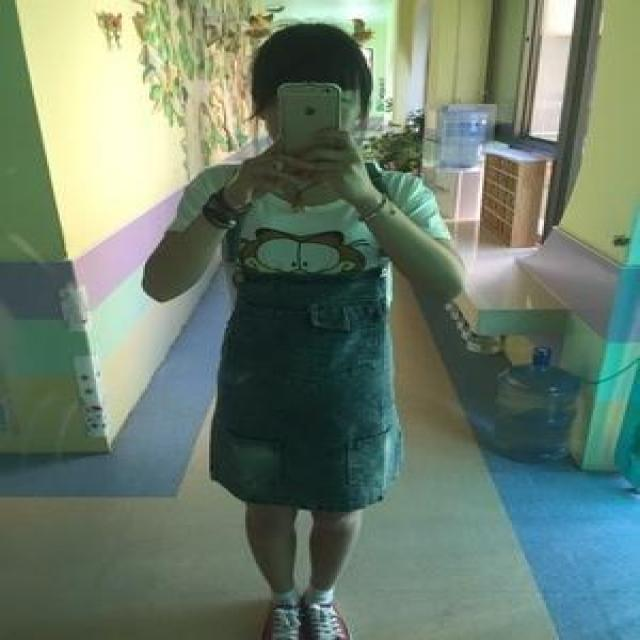short sleeve top: (166, 166, 454, 338)
sling dress: (211, 165, 405, 514)
